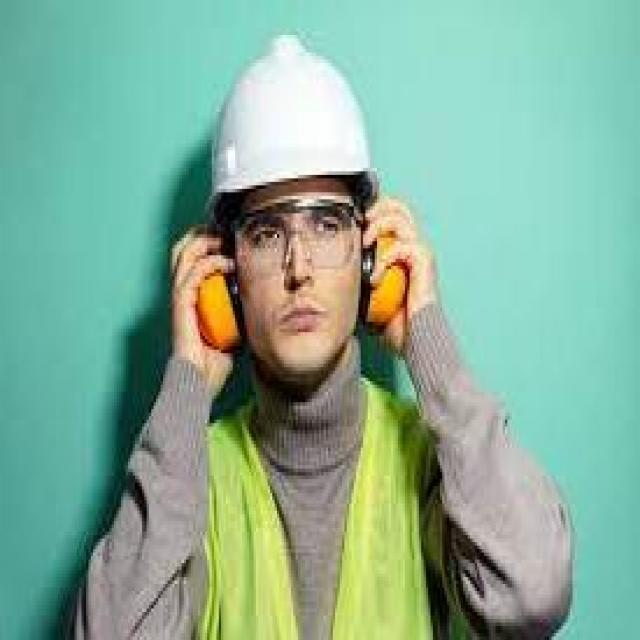Reflective-Jacket: (5, 364, 468, 636)
Safety-Helmet: (200, 28, 384, 217)
